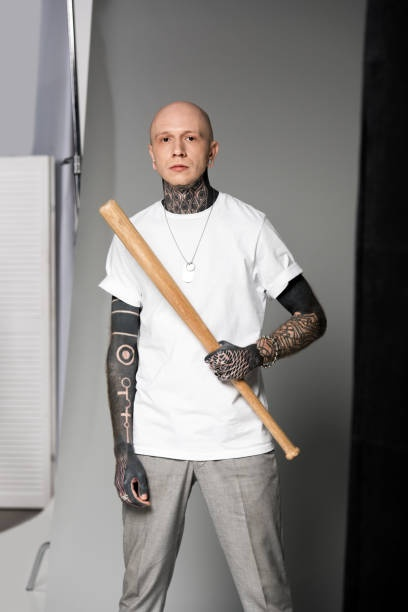bita: (102, 198, 297, 463)
